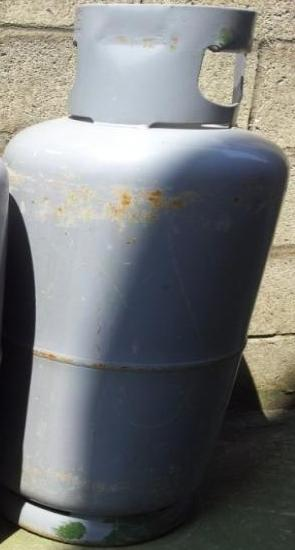cylinder: (1, 1, 295, 550)
